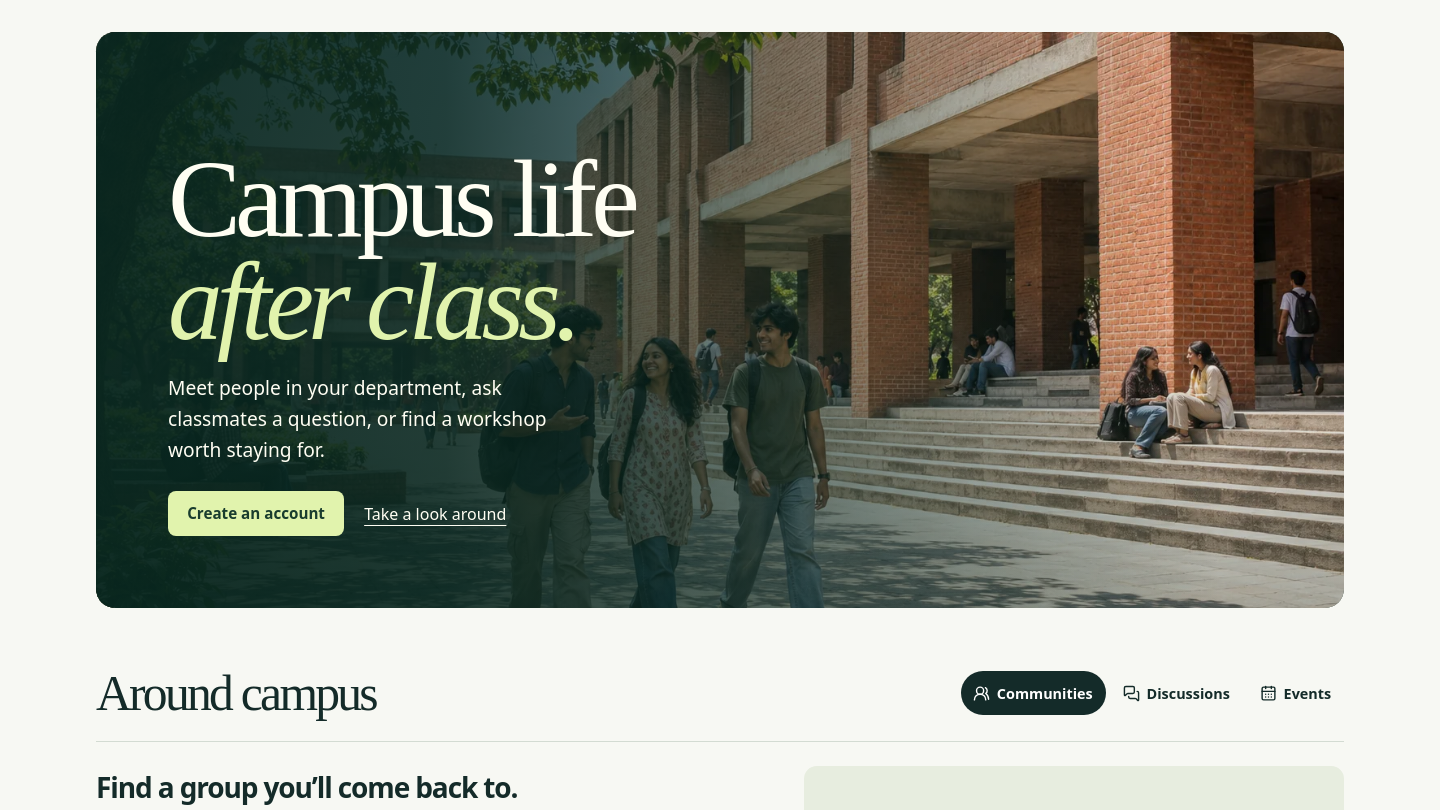
Test: LandingPage › renders hero copy and switches campus preview tabs
Expected: the 1st heading shows "Campus life", [168,138,634,260]
Expected: the heading "Find a group you’ll come back to." is shown, [96,768,517,806]
Step 1. Click the button "Events" → (1296, 693), box [1247,671,1344,715]
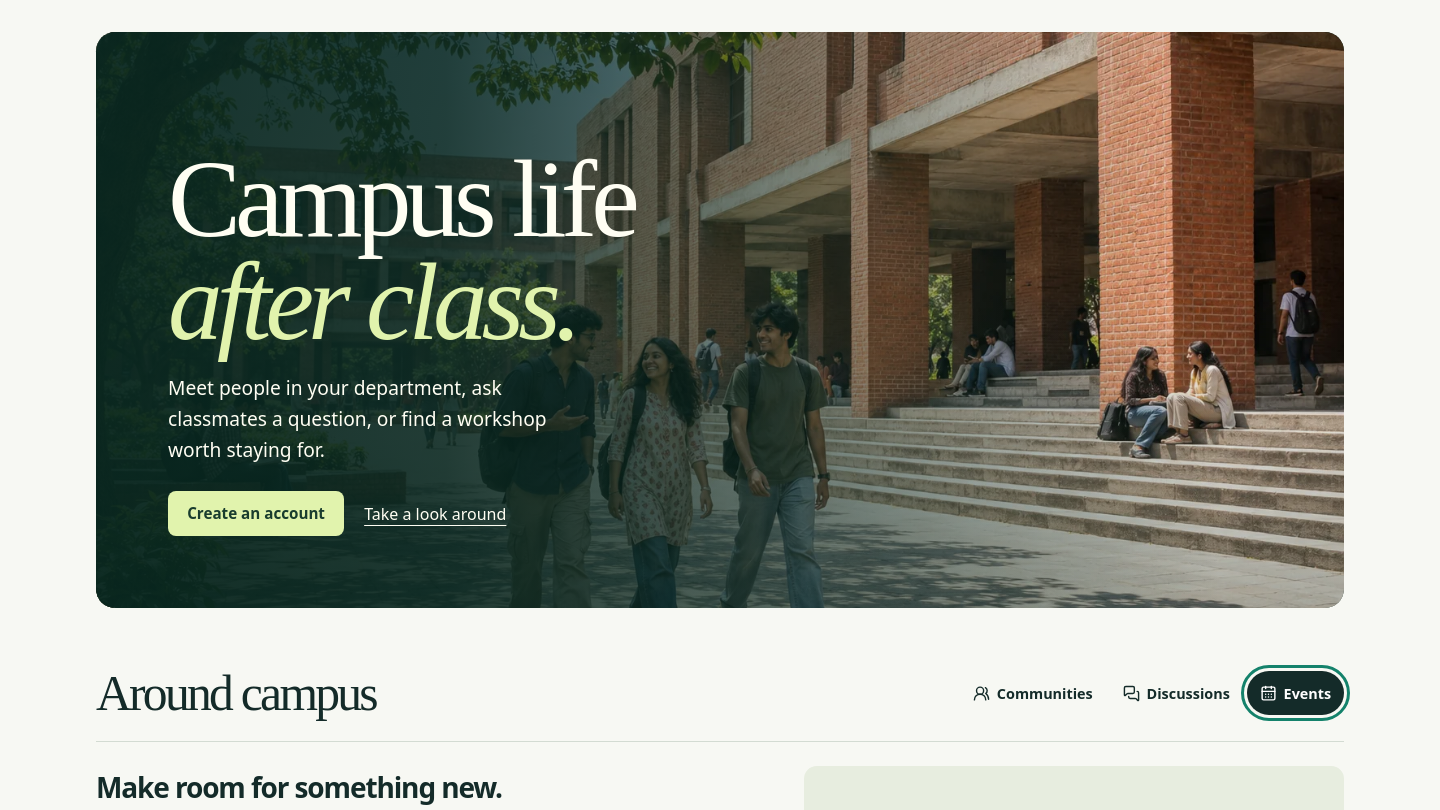
Now the heading "Make room for something new." is shown, box [96,768,502,806]
